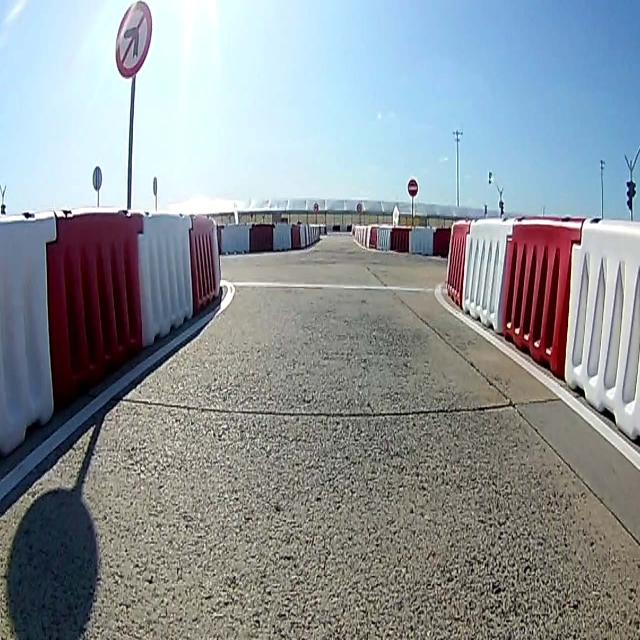girisyok: (406, 173, 419, 200)
soladonulmez: (115, 4, 151, 78)
